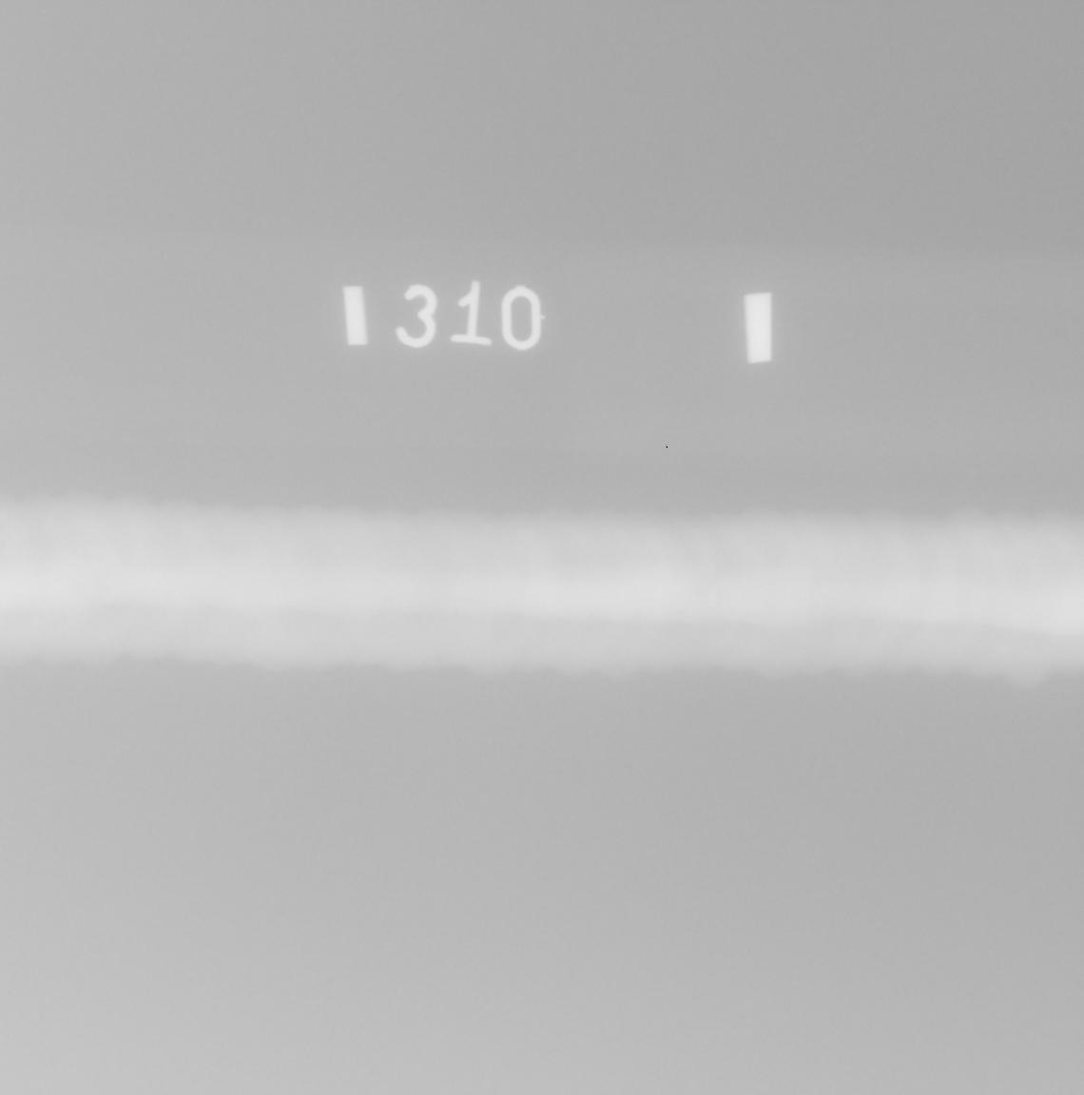Inclusion: (652, 638, 663, 645), (691, 640, 700, 644)
Pore/Porosity: (717, 591, 721, 596)
